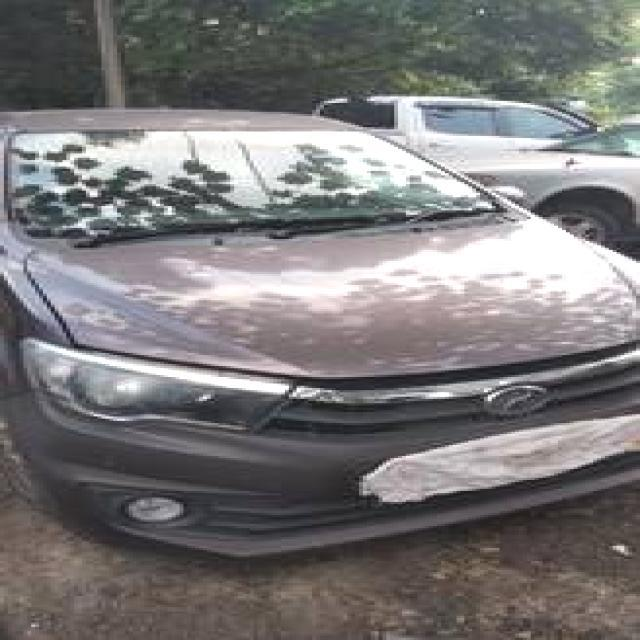PeroduaBezza: (0, 105, 639, 559)
